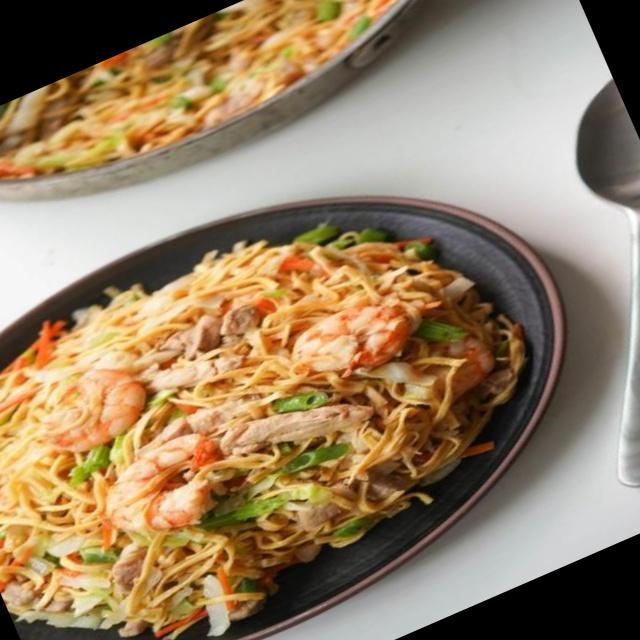pancit bihon: (0, 236, 528, 622), (0, 0, 391, 173)
